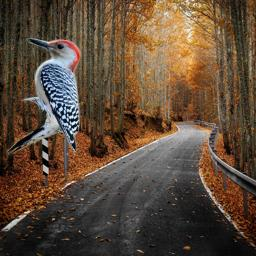Woodpecker: (1, 33, 87, 163)
